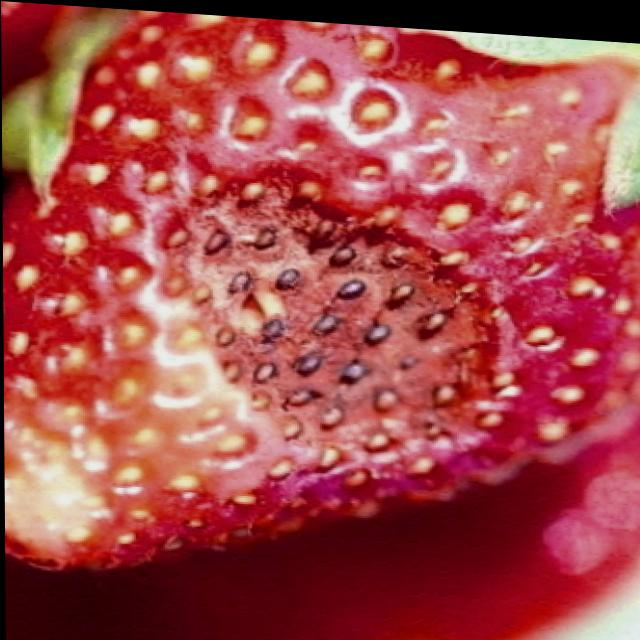Anthracnose Fruit Rot: (118, 149, 549, 490)
